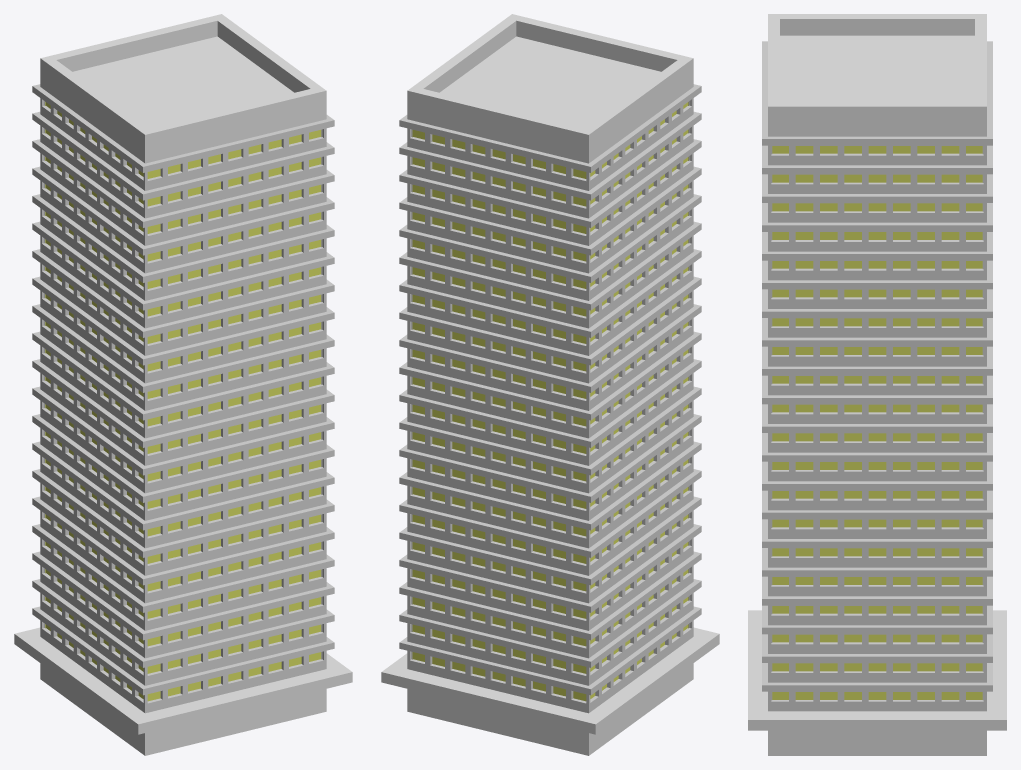
The model's file is SkyScrapers.dae.
3 views of the same model, side by side, from view 1: azimuth 30°, elevation 25°; view 2: azimuth 150°, elevation 25°; view 3: azimuth 270°, elevation 25° (orthographic). The views are drawn at different scales.
Parts seen in each view (by area): view 1: Fläche.001, Fläche.002, Fläche; view 2: Fläche.001, Fläche.002, Fläche; view 3: Fläche.001, Fläche.002, Fläche.
Boxes of the visible parts, <box> form: Fläche.001: <box>32,84,334,713</box>; Fläche.002: <box>40,14,326,163</box>; Fläche: <box>14,627,352,755</box>; Fläche.001: <box>399,84,701,713</box>; Fläche.002: <box>407,14,693,163</box>; Fläche: <box>381,627,719,755</box>; Fläche.001: <box>762,41,992,711</box>; Fläche.002: <box>768,14,986,136</box>; Fläche: <box>748,610,1006,755</box>.
Size of the model in its own units: 2.36 by 2.36 by 6.54.
